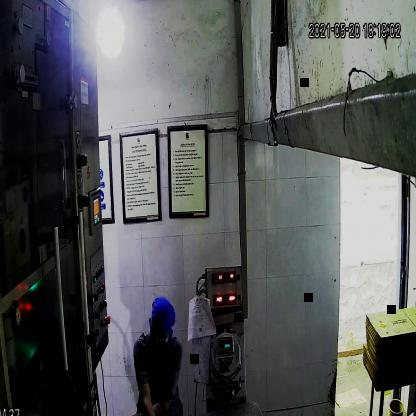goggles: (148, 322, 171, 348)
